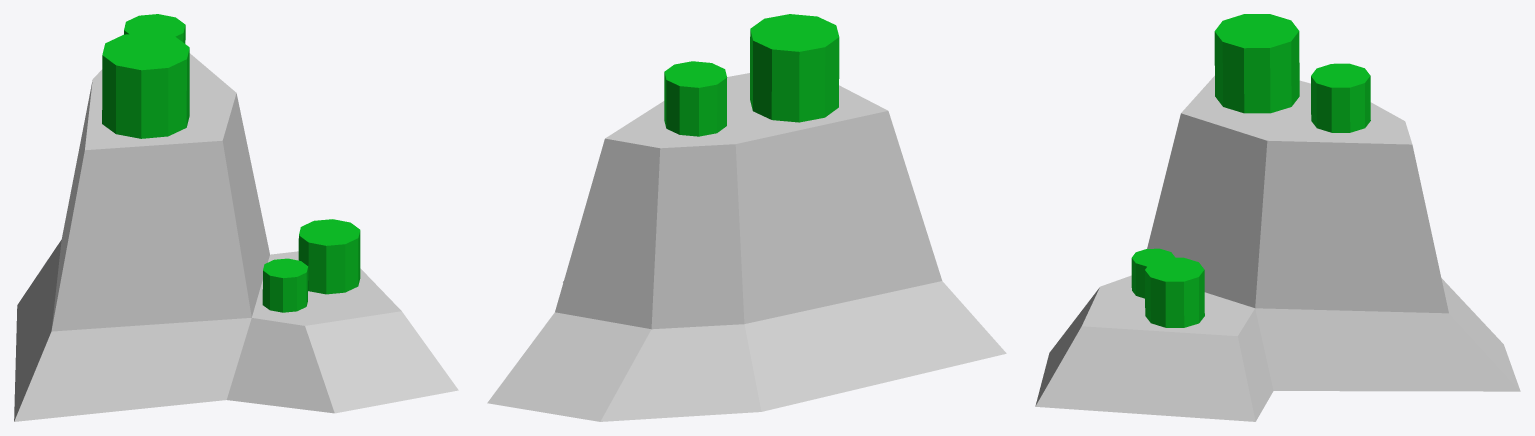
File: Esmeralda_Tipo3.fbx
3 views of the same model, side by side, from view 1: azimuth 30°, elevation 25°; view 2: azimuth 150°, elevation 25°; view 3: azimuth 270°, elevation 25° (orthographic). The views are drawn at different scales.
Parts seen in each view (by area): view 1: base.021, esmeralda.005, esmeralda.007, esmeralda.008, esmeralda.006; view 2: base.021, esmeralda.005, esmeralda.006; view 3: base.021, esmeralda.005, esmeralda.007, esmeralda.006, esmeralda.008.
Boxes of the visible parts, x1,y1,x2,y2 form: base.021: [14, 53, 458, 421]; esmeralda.005: [102, 32, 189, 138]; esmeralda.007: [298, 219, 360, 294]; esmeralda.008: [262, 258, 308, 312]; esmeralda.006: [124, 14, 185, 43]; base.021: [487, 73, 1006, 421]; esmeralda.005: [750, 14, 839, 122]; esmeralda.006: [664, 61, 727, 136]; base.021: [1035, 75, 1520, 421]; esmeralda.005: [1214, 14, 1299, 113]; esmeralda.007: [1145, 257, 1204, 327]; esmeralda.006: [1311, 63, 1370, 132]; esmeralda.008: [1131, 248, 1175, 298].
Size of the model in its own units: 75.27 by 54.39 by 83.81.
